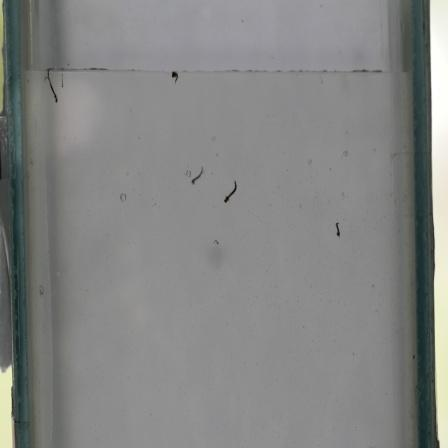Jentik-Nyamuk: (42, 68, 67, 108), (222, 177, 239, 206), (188, 163, 206, 186), (165, 68, 183, 88), (332, 219, 343, 242)
